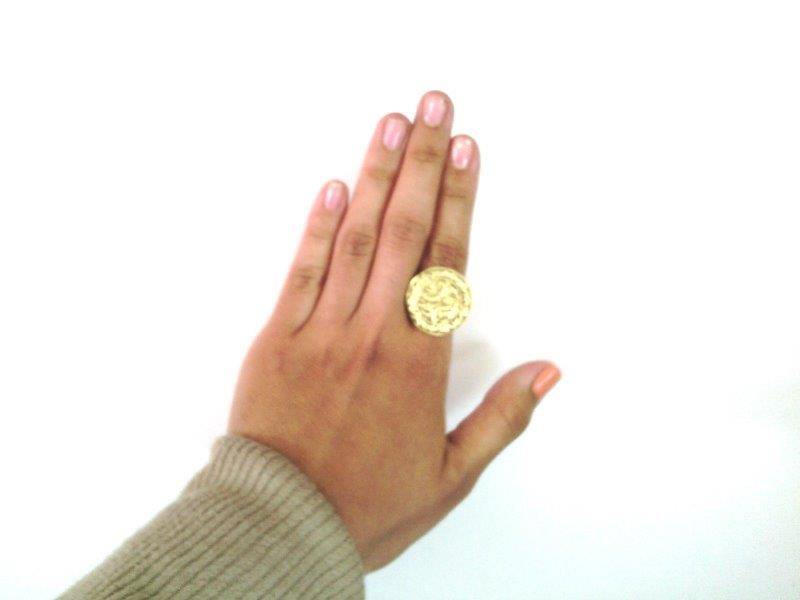hand: (227, 92, 561, 503)
